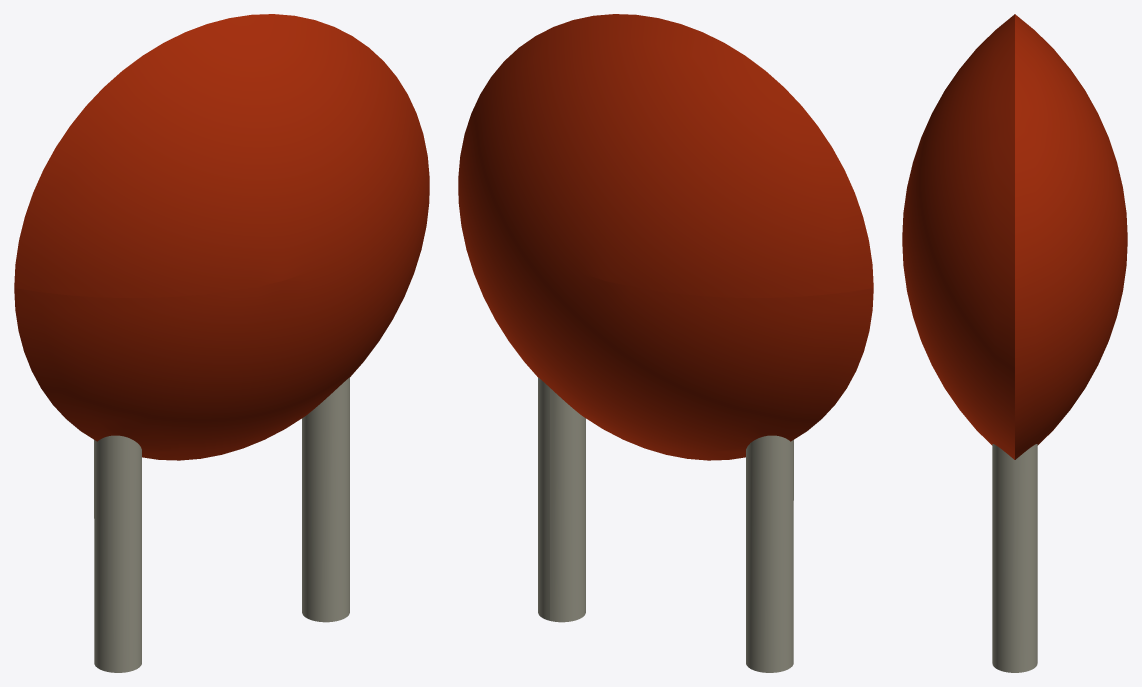
Rendered from cap-disc.glb.
3 views of the same model, side by side, from view 1: azimuth 30°, elevation 25°; view 2: azimuth 150°, elevation 25°; view 3: azimuth 270°, elevation 25° (orthographic). The views are drawn at different scales.
Size of the model in its own units: 5 by 7.1 by 2.5.
